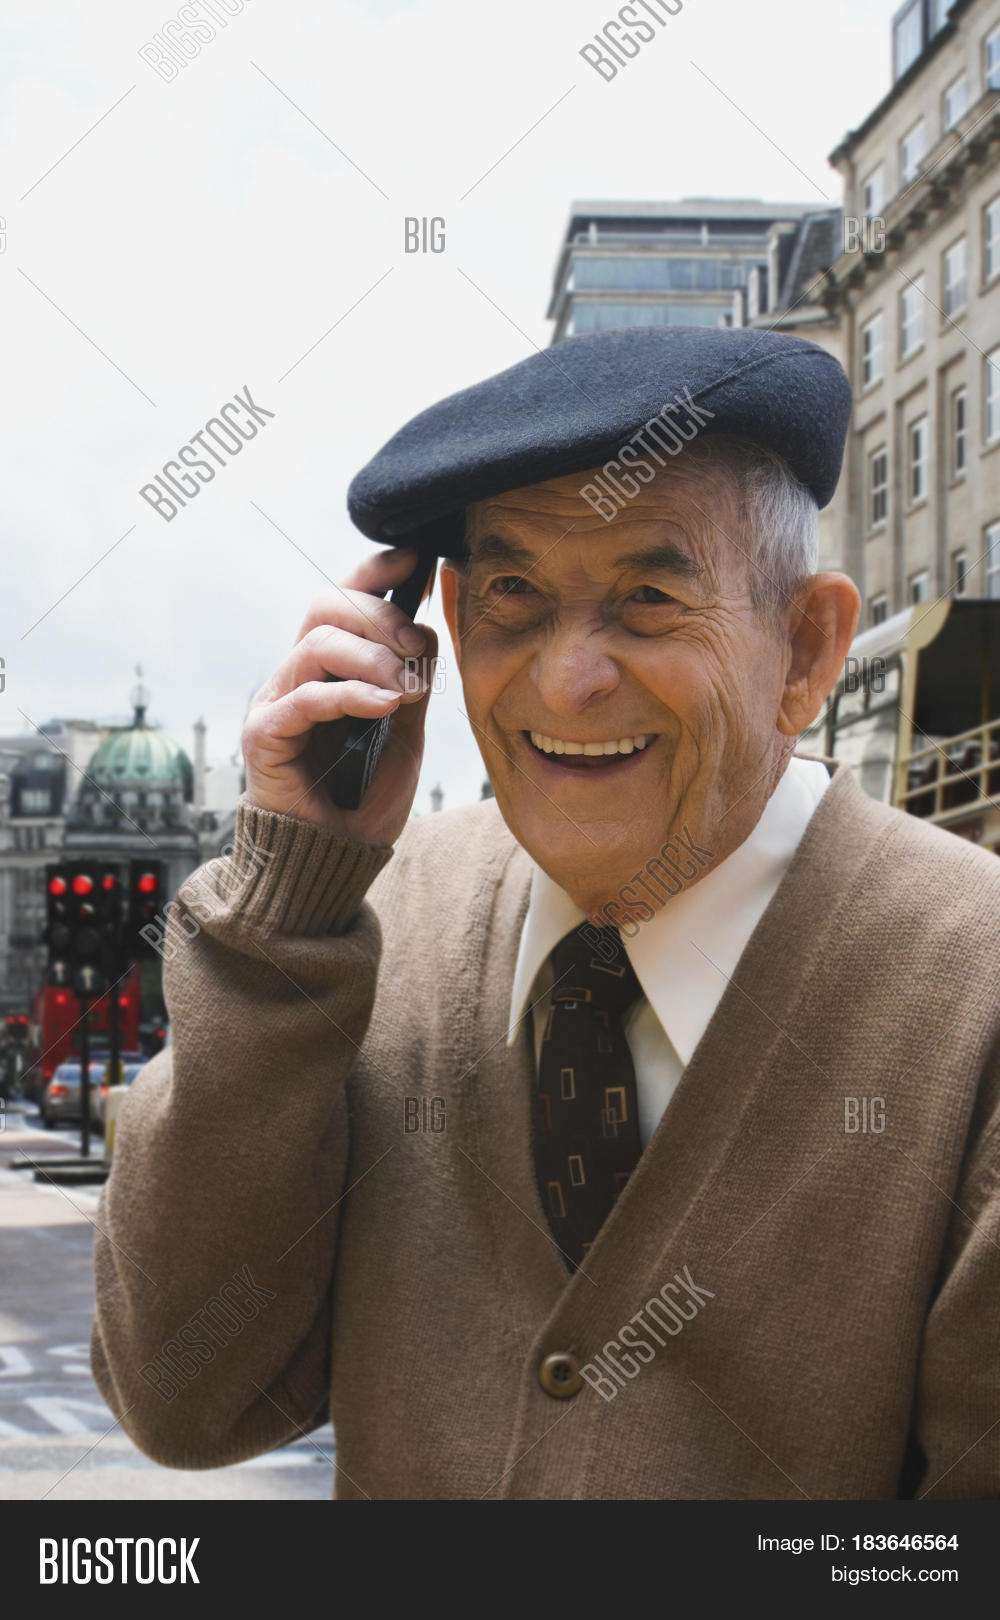phone: (326, 520, 437, 819)
talk: (233, 508, 738, 929)
